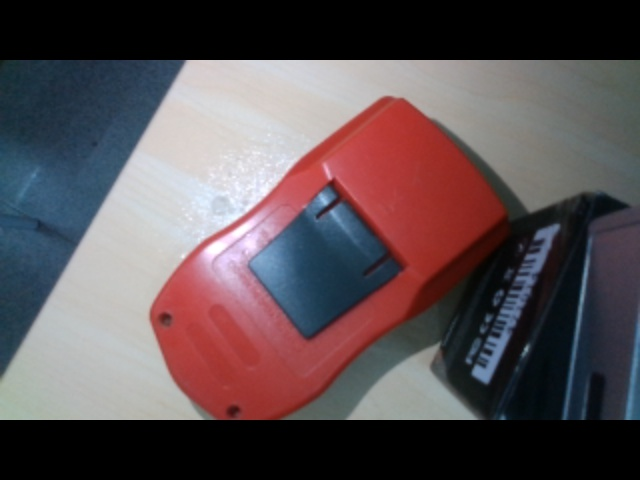Multimeter: (150, 93, 510, 421)
